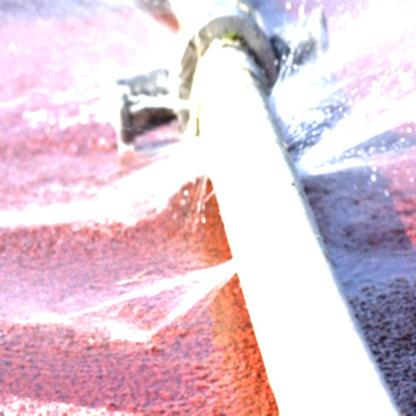burst: (264, 66, 354, 194), (209, 237, 268, 294)
